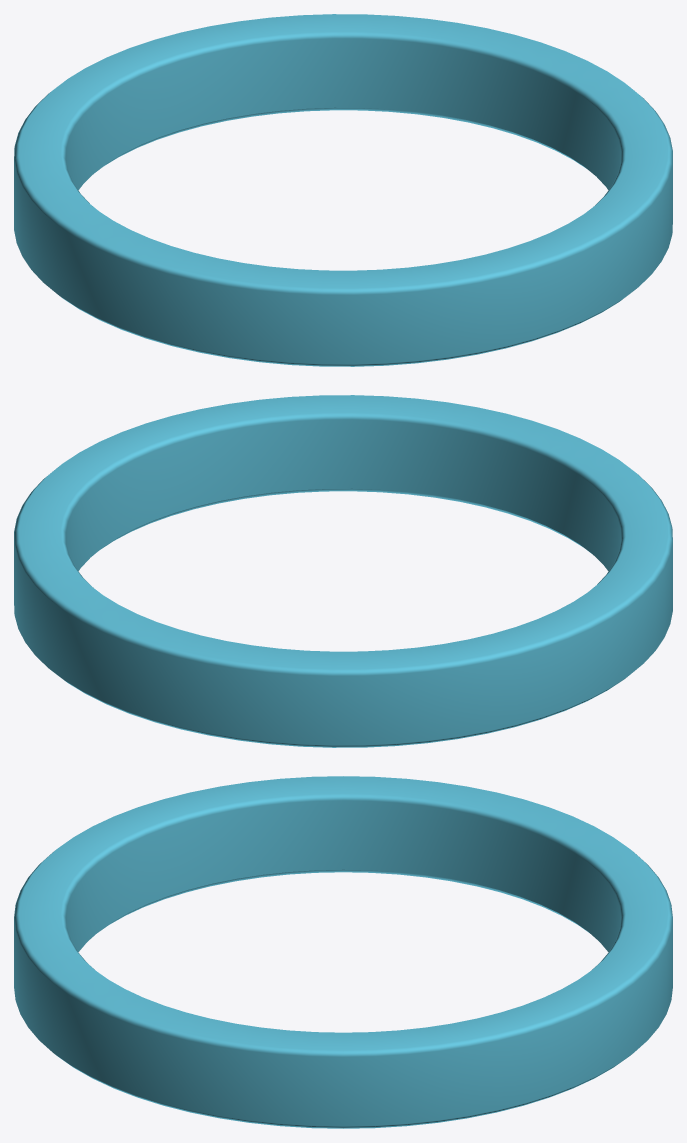
3 renders of one model, top to bottom at view 1: azimuth 30°, elevation 25°; view 2: azimuth 150°, elevation 25°; view 3: azimuth 270°, elevation 25°, orthographic.
Visible parts, largest first — view 1: seal_body; view 2: seal_body; view 3: seal_body.
Part boxes in pixels (bbox=[...]): seal_body: bbox=[14, 14, 672, 366]; seal_body: bbox=[14, 395, 672, 747]; seal_body: bbox=[14, 776, 672, 1128].
Bounding box in the file's own units: 0.1207 × 0.0159 × 0.1207.
